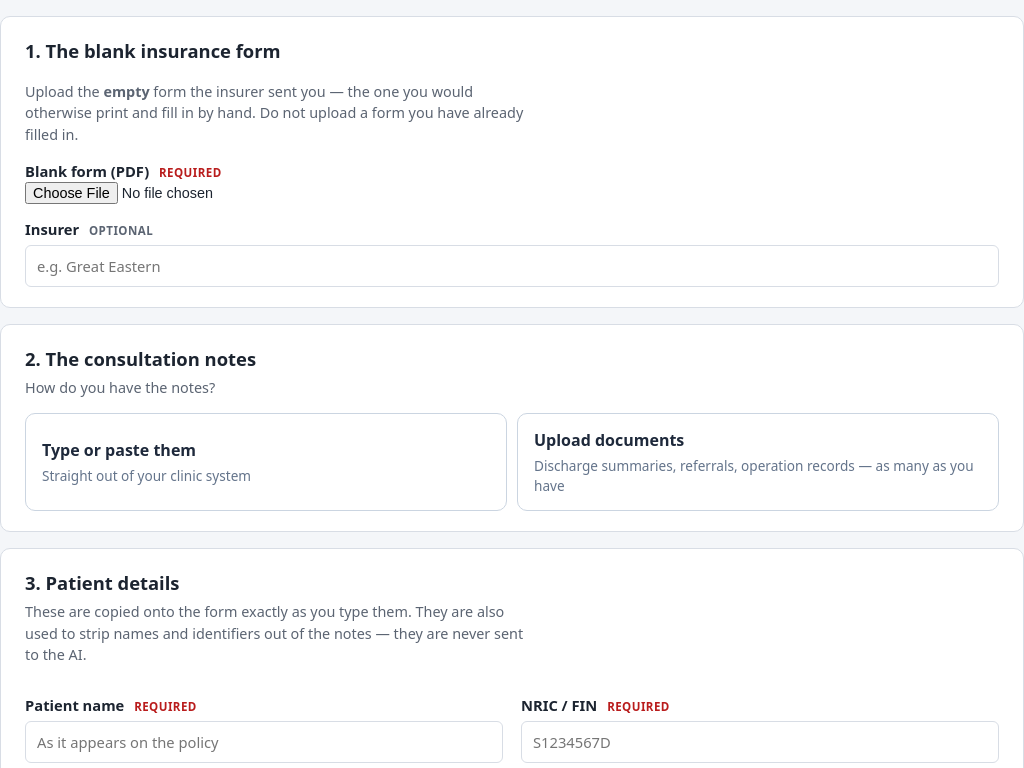
Test case: section 2 — how the doctor has the notes › choosing paste gives a box to paste into
Click the button "Type or paste them Straight out of your clinic system" at (119, 450), box [25,413,507,512]
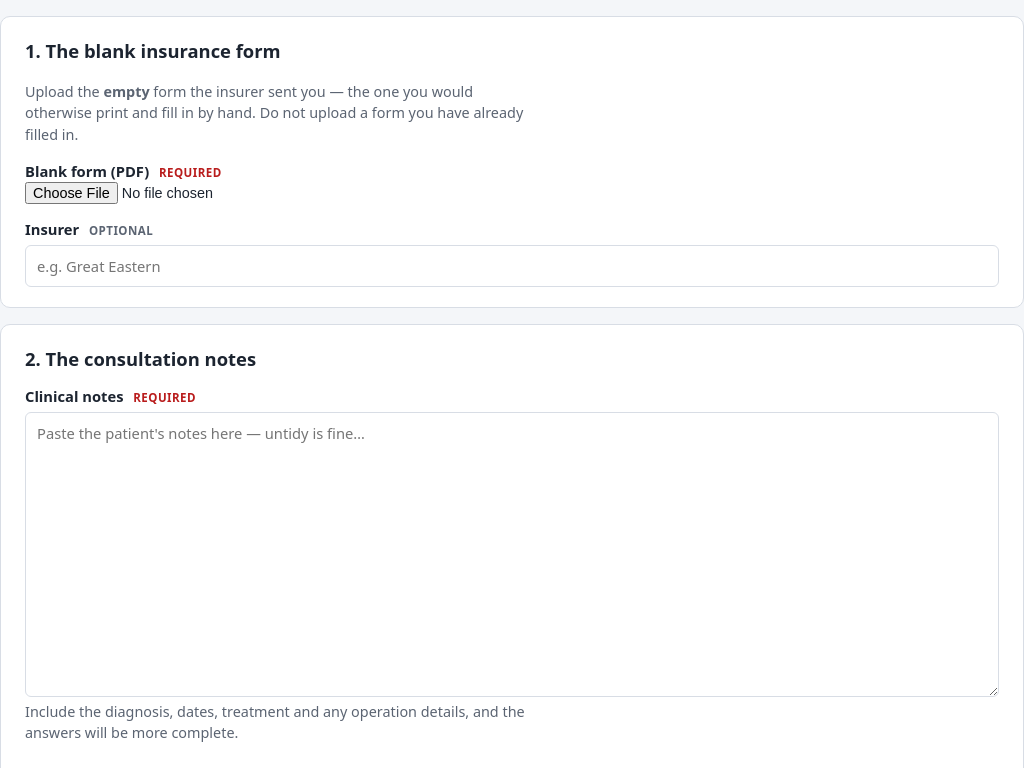
Expected: the text box labelled "Clinical notes required" is shown, [25,412,999,697]
